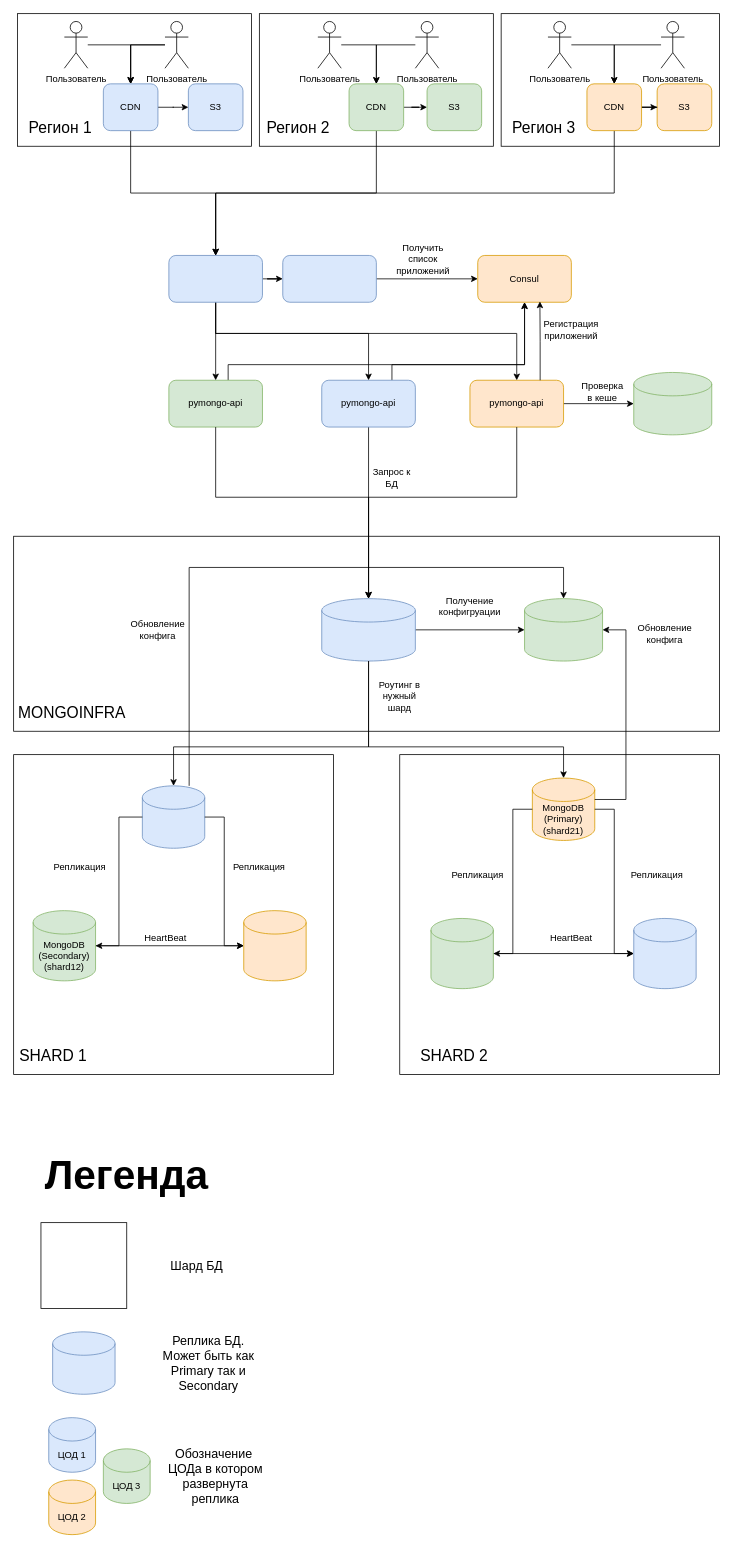
Image size: 733x1548. Some labels were removed from this diagram. The centre of each missing label's shape, as x and y in pixels:
"apisix" belongs at pixel 215 278.
"etcd" belongs at pixel 329 278.
"MONGOCFG (Primary) (configSrv)" belongs at pixel 563 629.
"MongoDB (Primary) (name)" belongs at pixel 83 1362.
"MongoDB (Primary) (shard11)" belongs at pixel 173 816.
"MongoDB (Secondary) (shard13)" belongs at pixel 274 945.
"MongoDB (Secondary) (shard22)" belongs at pixel 461 953.
"MongoDB (Secondary) (shard23)" belongs at pixel 664 953.
"MONGOS (Primary) (mongos_router)" belongs at pixel 368 629.
"Redis (Single) (redis)" belongs at pixel 672 403.
"SHARD" belongs at pixel 83 1265.
